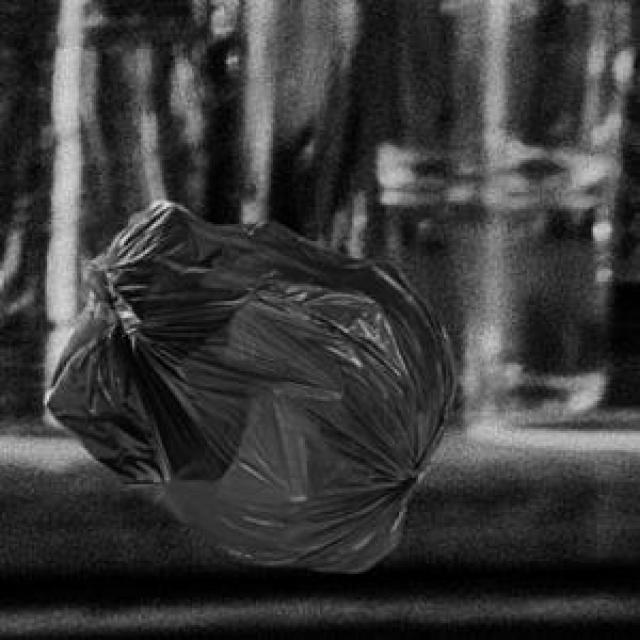miscellaneous trash: (41, 196, 450, 568)
